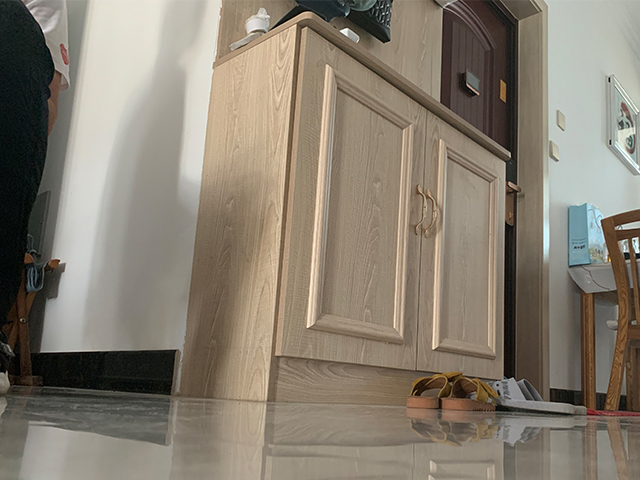curtain: (169, 9, 512, 412)
slippers: (491, 378, 587, 417), (405, 371, 452, 413), (442, 375, 489, 417)
